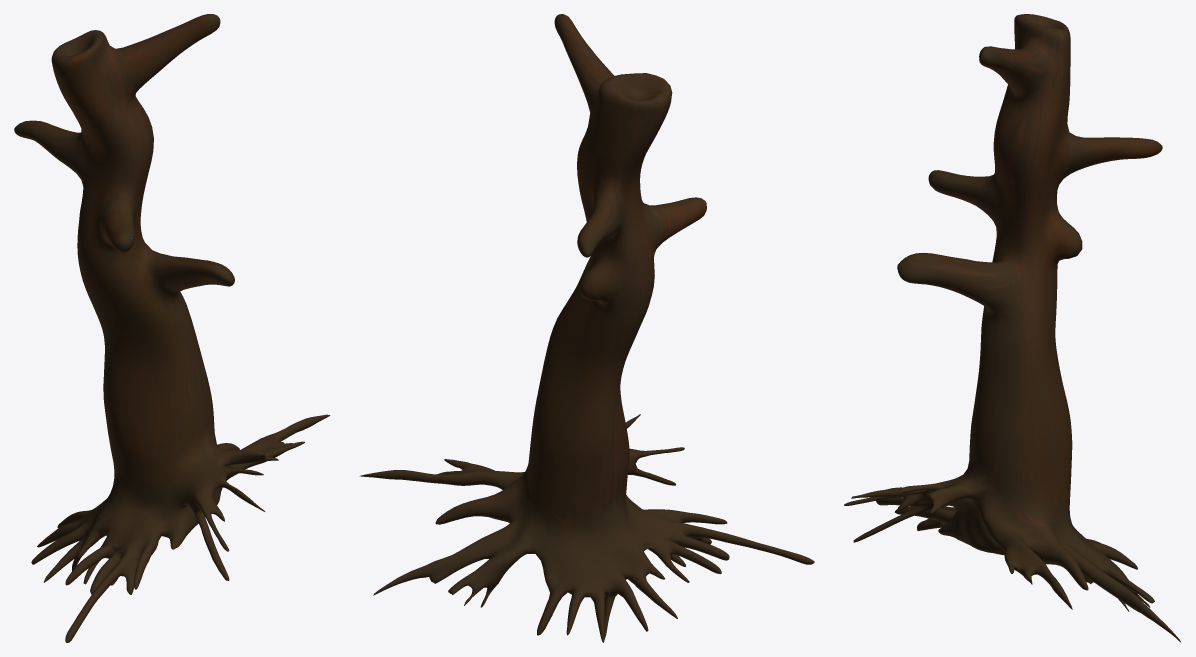
File: Tree_roots.fbx
3 views of the same model, side by side, from view 1: azimuth 30°, elevation 25°; view 2: azimuth 150°, elevation 25°; view 3: azimuth 270°, elevation 25° (orthographic). The views are drawn at different scales.
Visible parts, largest first — view 1: Merged_Tree_roots42; view 2: Merged_Tree_roots42; view 3: Merged_Tree_roots42.
Part boxes in pixels (bbox=[...]): Merged_Tree_roots42: bbox=[14, 14, 330, 642]; Merged_Tree_roots42: bbox=[359, 14, 814, 642]; Merged_Tree_roots42: bbox=[844, 14, 1180, 642].
Size of the model in its own units: 0.4009 by 0.6077 by 0.3188.
